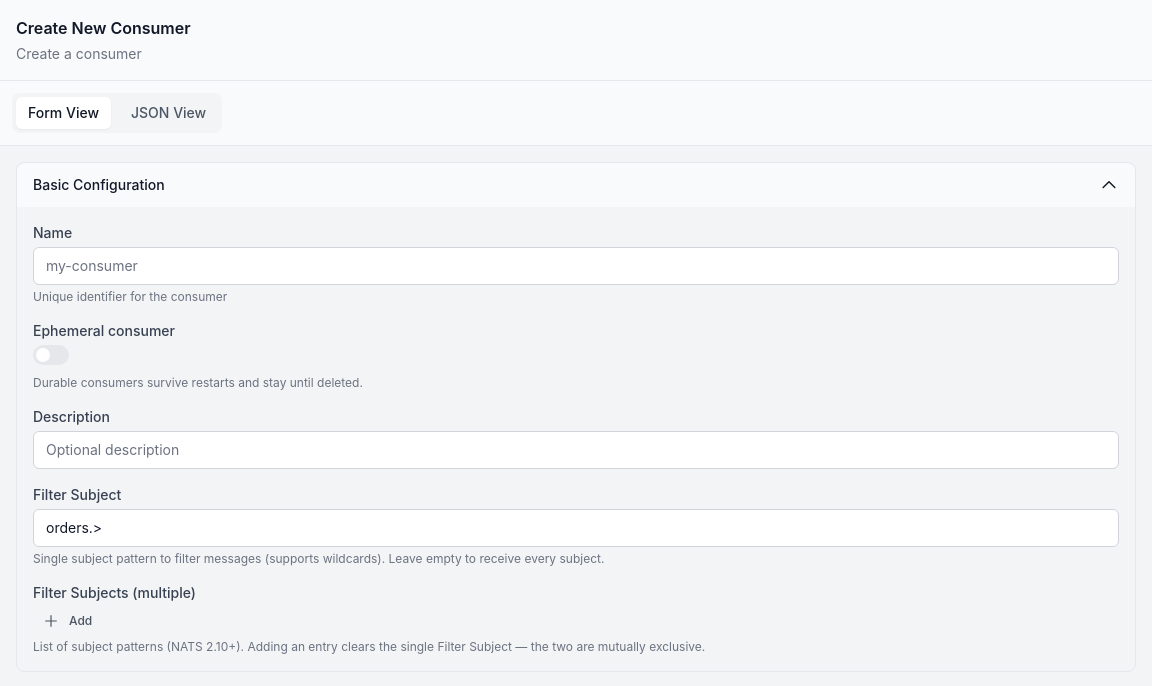
Test: ConsumerEditor filter subjects › clears the single filter as soon as a list entry is added
The width and height of the screenshot is (1152, 686).
Click the button "Add" at (68, 621), box [33,607,102,635]
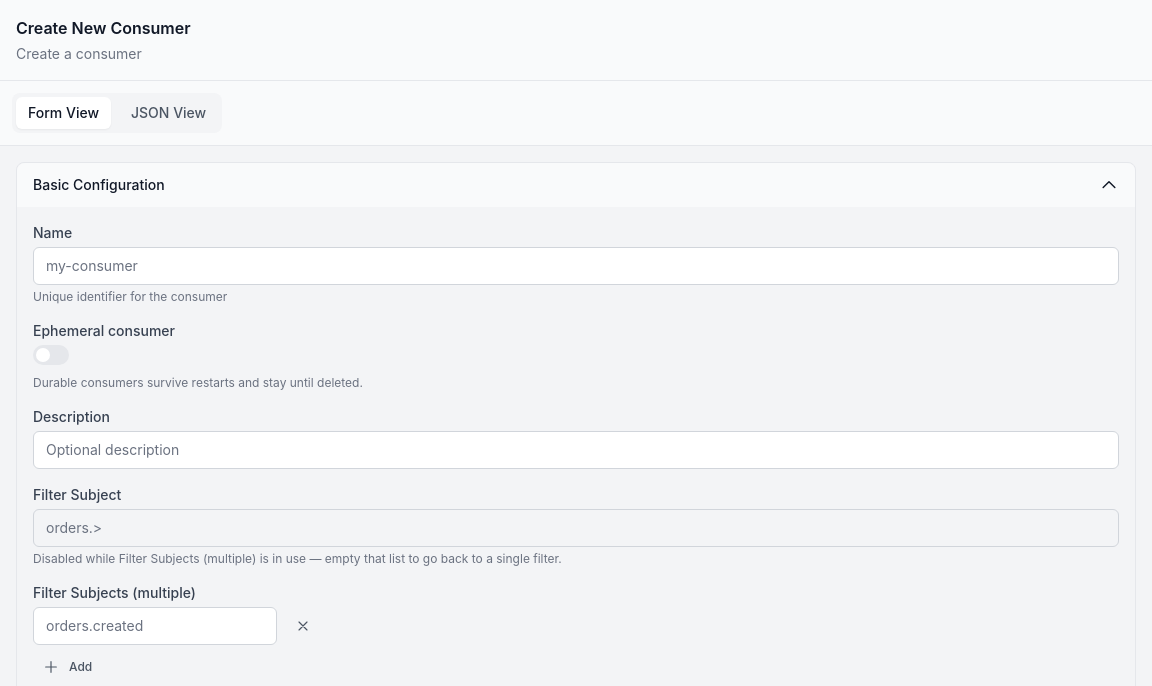
Now the field labelled "Filter Subject" is disabled, box [33,509,1119,547]
